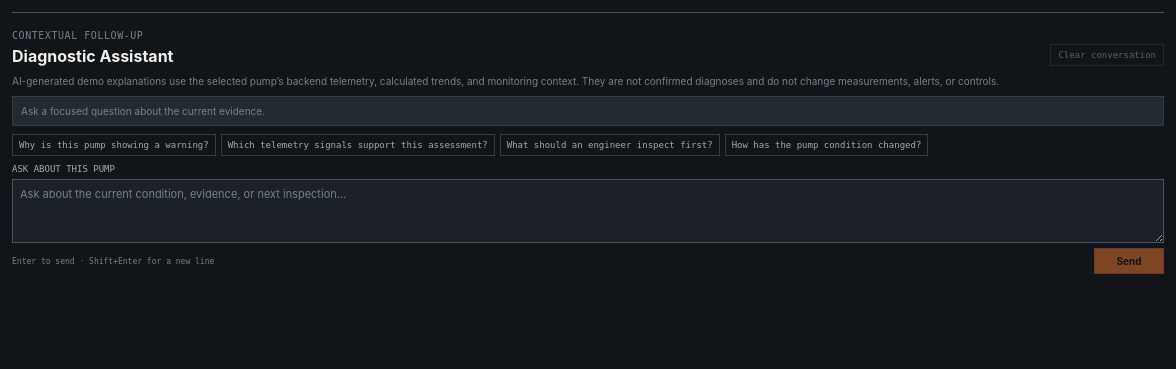
Test: DiagnosticChat › sends the active client session with chat evidence requests
The width and height of the screenshot is (1176, 369).
Replace the text in the text box labelled "Ask about this pump" with "What changed?" at x=588, y=211, box [12,179,1164,243]
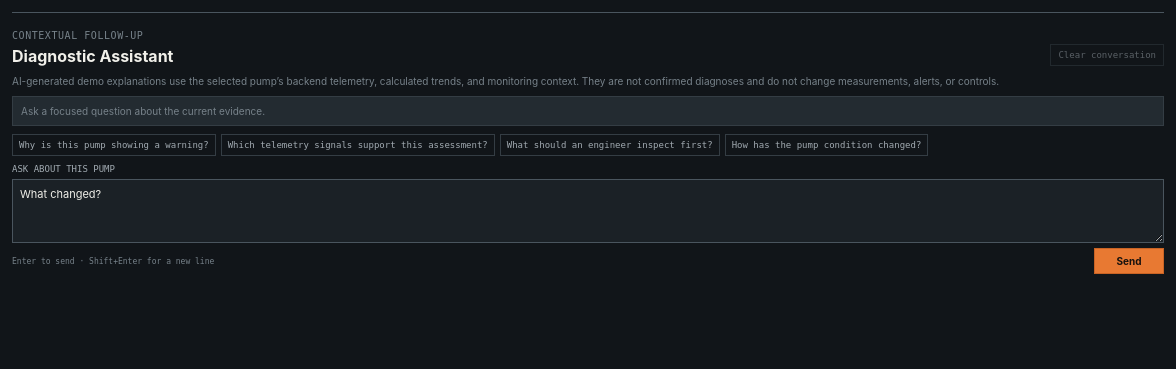
Click the button "Send".
click(1129, 261)  # box [1094,248,1164,274]
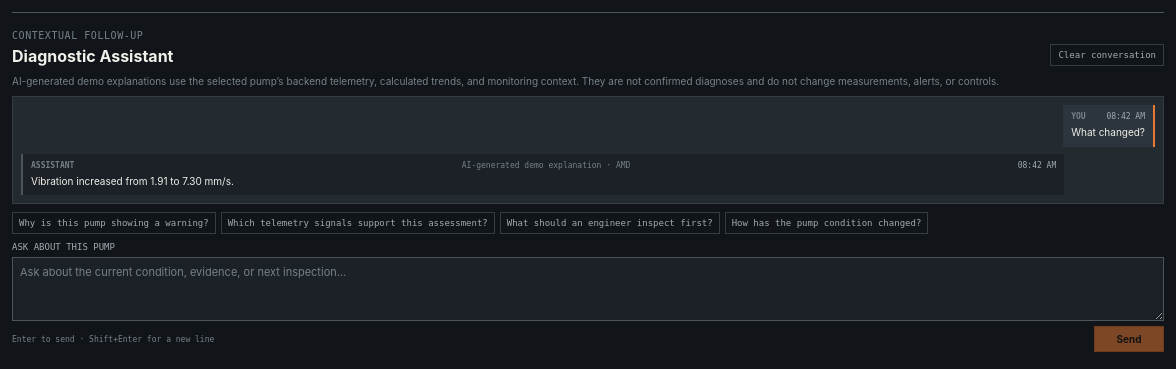
Expected: the text "Vibration increased from 1.91 to 7.30 mm/s." is shown, [31,174,234,186]
Expected: the text "AI-generated demo explanation · AMD" is shown, [462,160,630,170]
